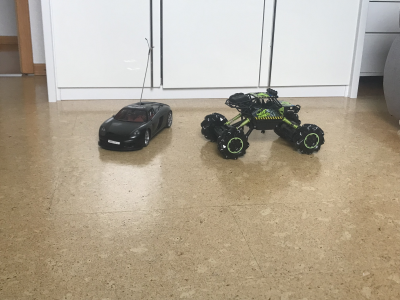remote control car: (199, 87, 327, 160)
